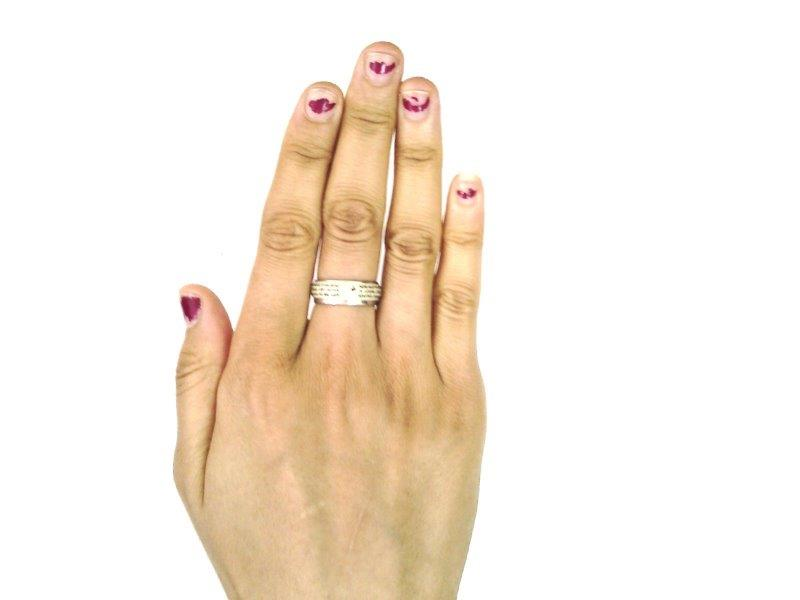hand: (175, 40, 485, 584)
